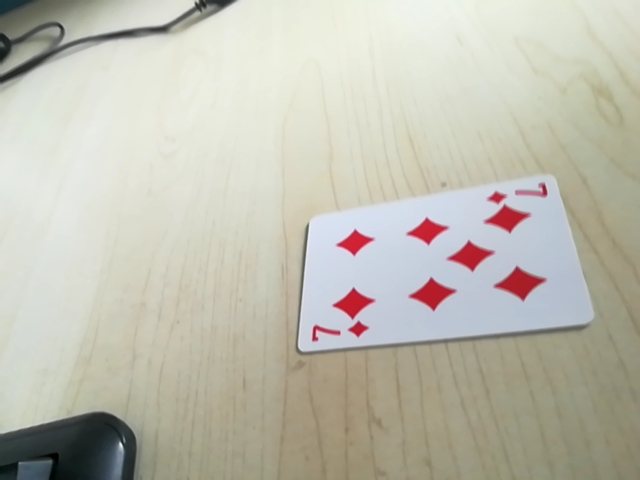fk 7: (485, 181, 553, 208), (304, 322, 372, 348)
